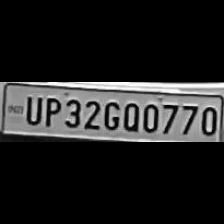0: (197, 103, 217, 135), (140, 100, 158, 132)
2: (82, 96, 100, 130)
3: (61, 96, 80, 128)
7: (176, 102, 196, 136), (159, 102, 177, 134)
G: (102, 99, 120, 131)
P: (41, 94, 60, 126)
Q: (120, 100, 140, 132)
U: (21, 93, 41, 125)
